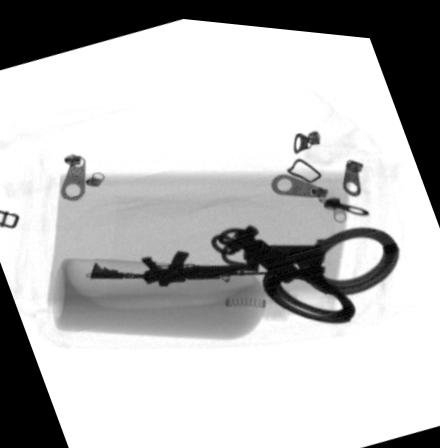Gun: (84, 245, 324, 283)
HandCuffs: (203, 214, 398, 317)
